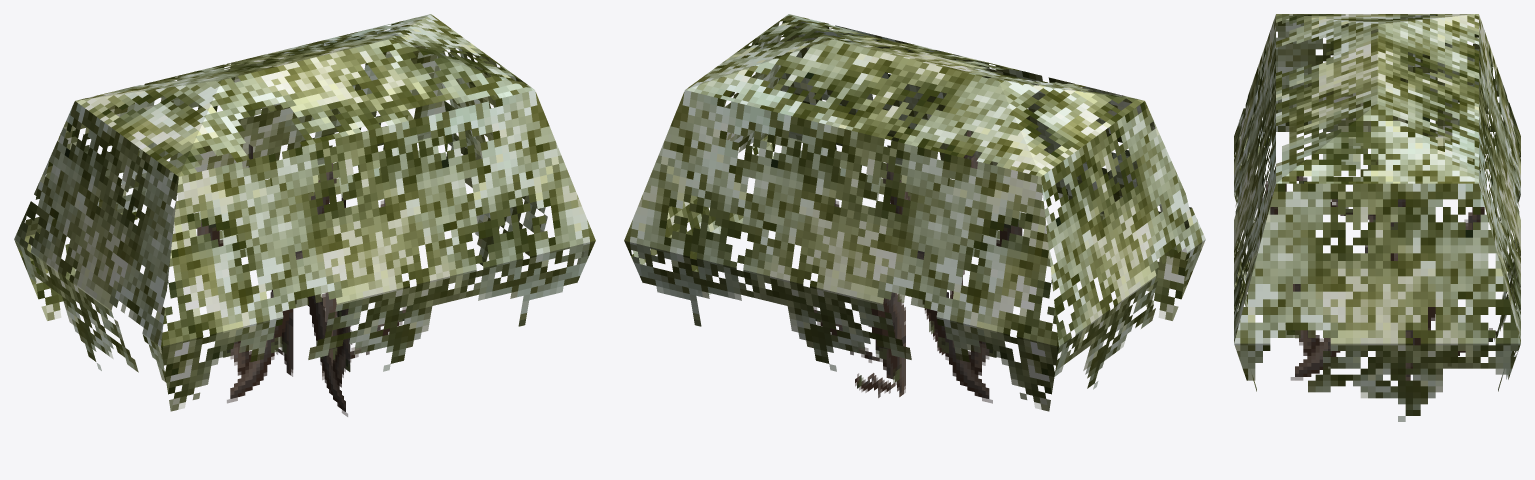
File: bush_long_half_single_roots_winter.glb
3 views of the same model, side by side, from view 1: azimuth 30°, elevation 25°; view 2: azimuth 150°, elevation 25°; view 3: azimuth 270°, elevation 25° (orthographic). The views are drawn at different scales.
Visible parts, largest first — view 1: bush_long_half_single_roots_winter; view 2: bush_long_half_single_roots_winter; view 3: bush_long_half_single_roots_winter.
Boxes of the visible parts, bbox=[...] form: bush_long_half_single_roots_winter: bbox=[14, 14, 595, 416]; bush_long_half_single_roots_winter: bbox=[624, 14, 1205, 411]; bush_long_half_single_roots_winter: bbox=[1234, 14, 1520, 421].
Size of the model in its own units: 1.23 by 0.8765 by 0.7191.
2 materials, 2 textured.
